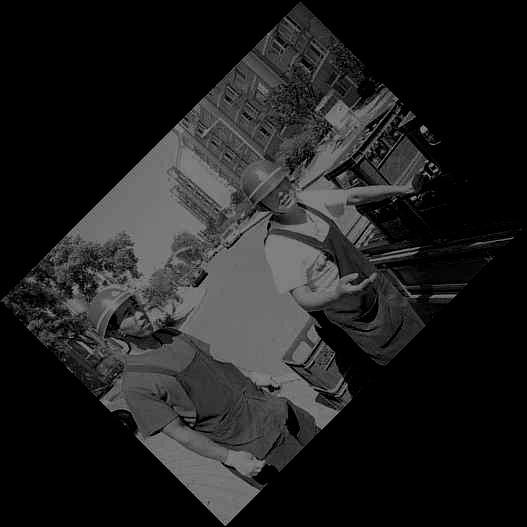helmet: (87, 287, 154, 338), (241, 159, 297, 214)
